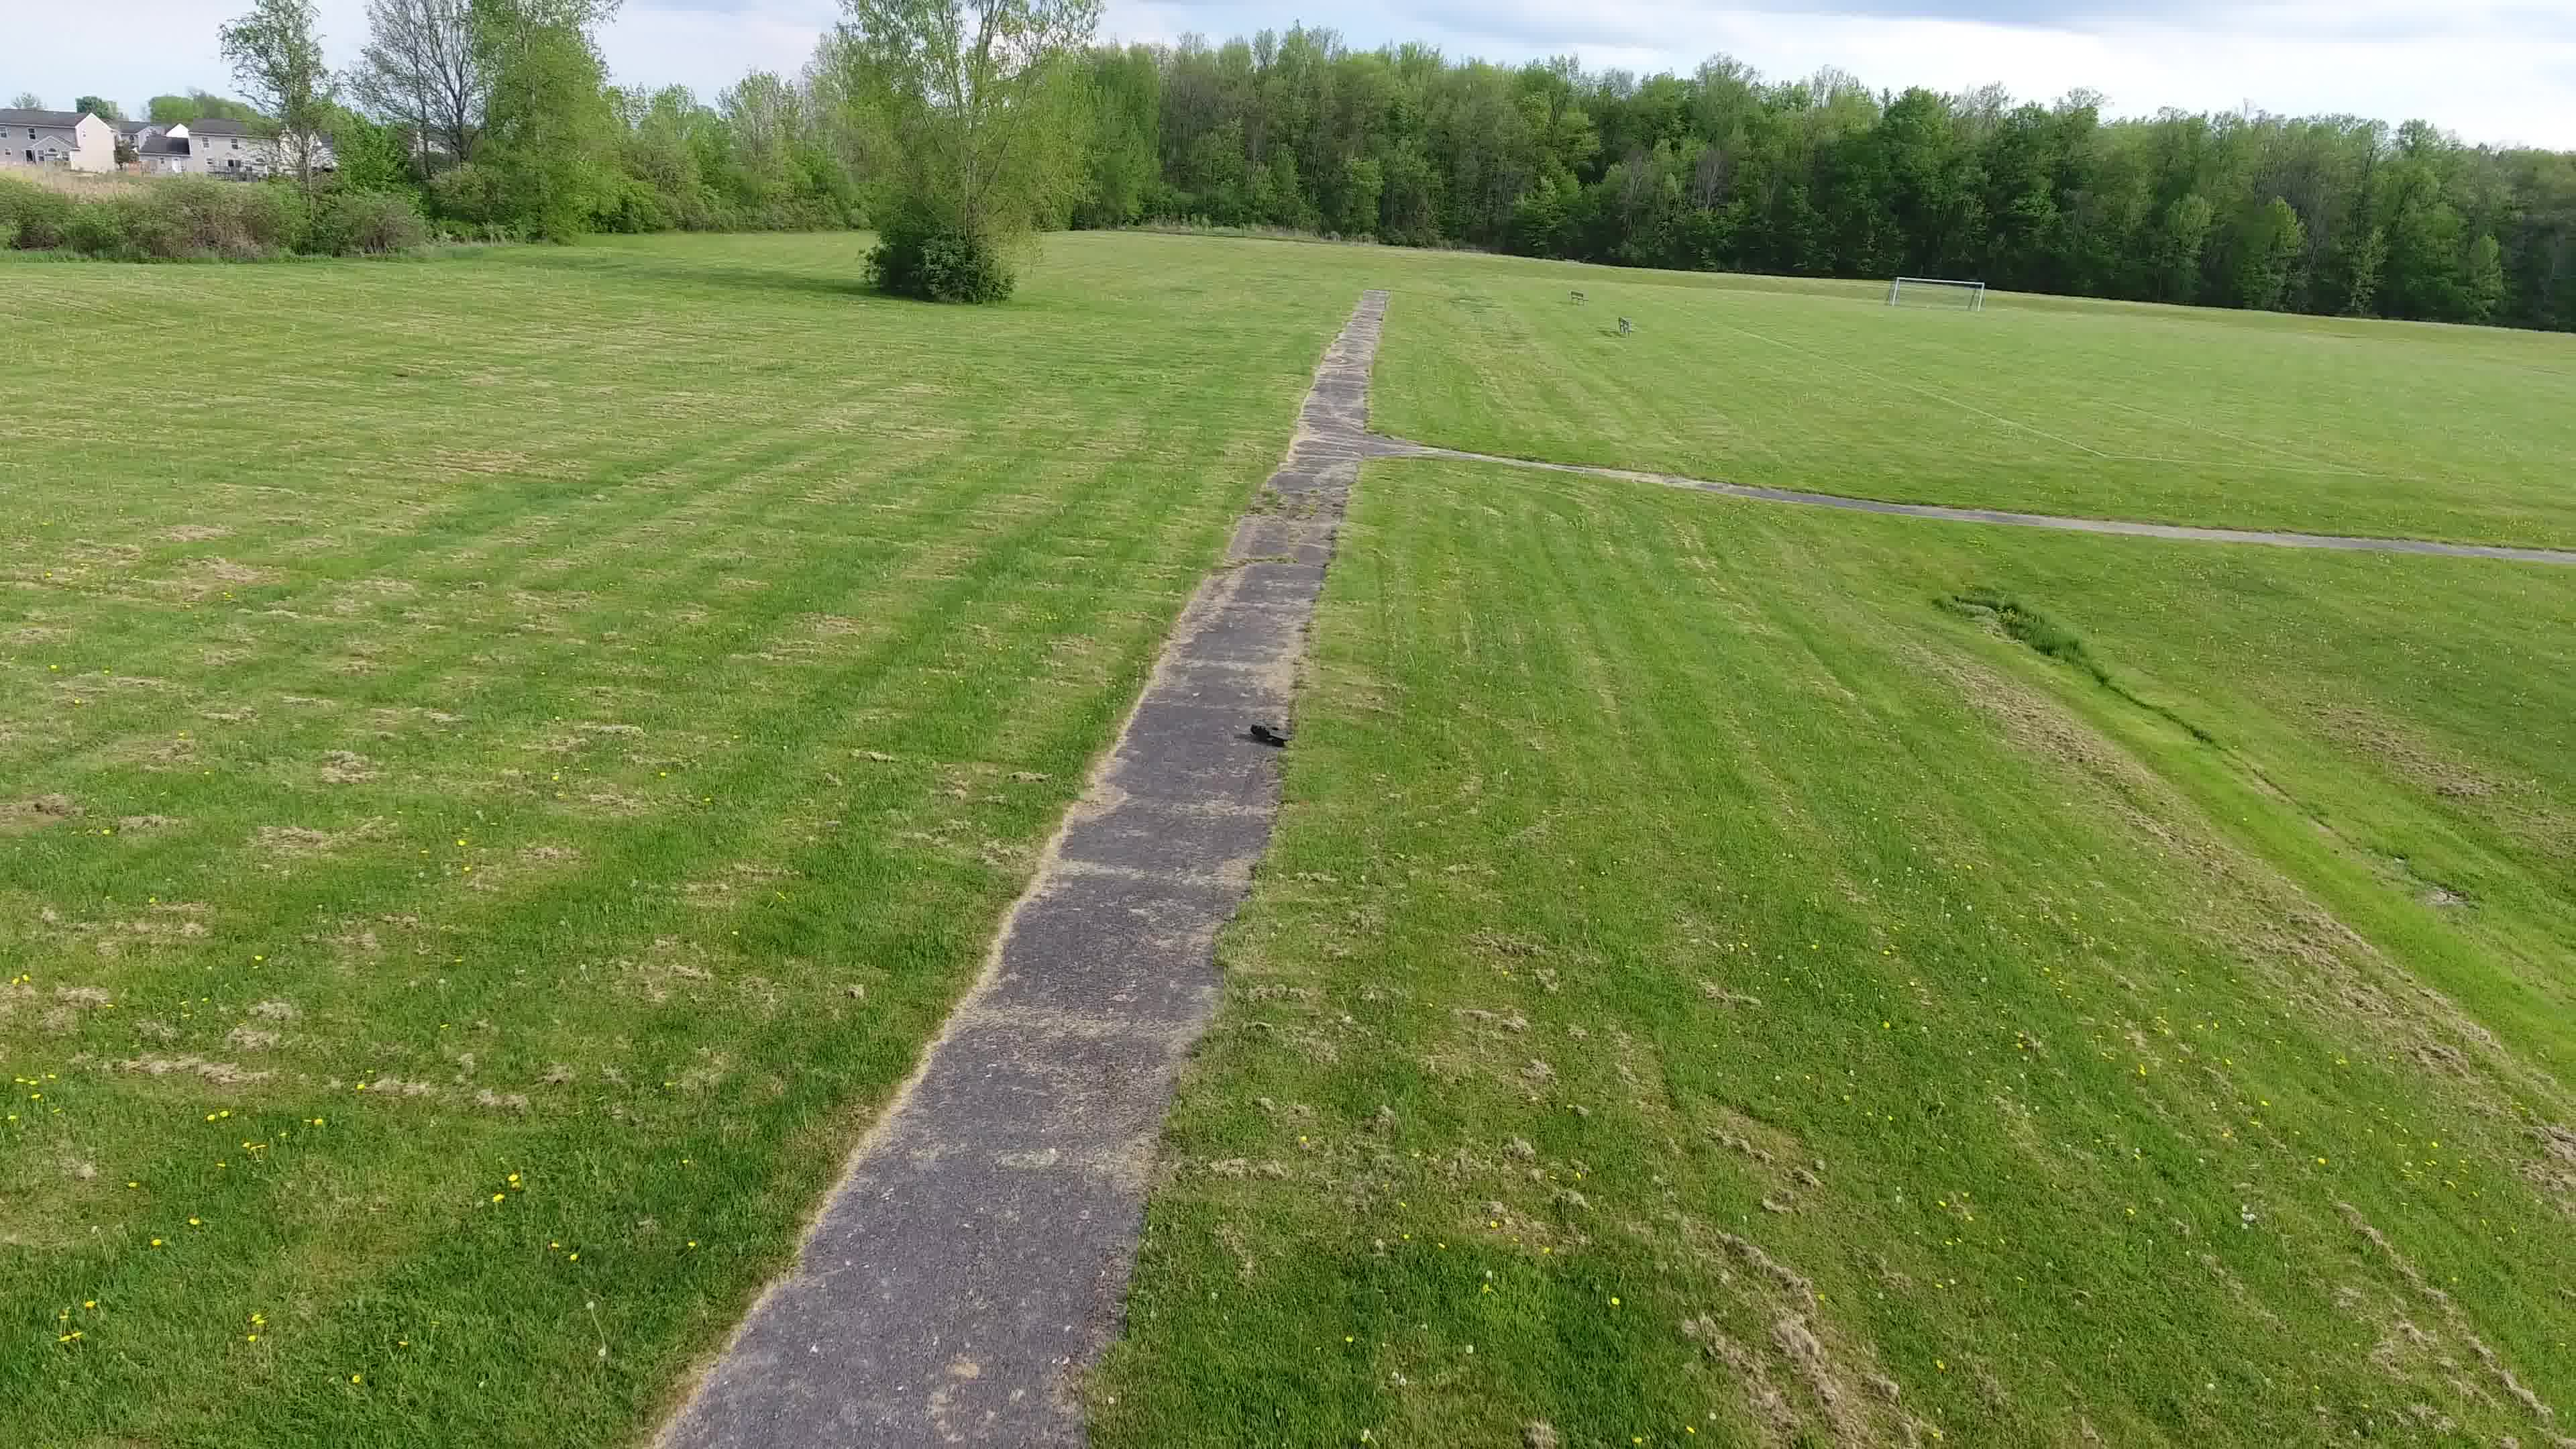transporter9: (1247, 720, 1292, 747)
